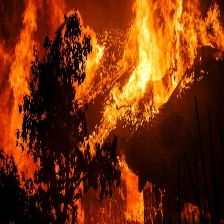fire: (86, 1, 220, 146), (4, 1, 80, 195), (111, 154, 199, 224)
